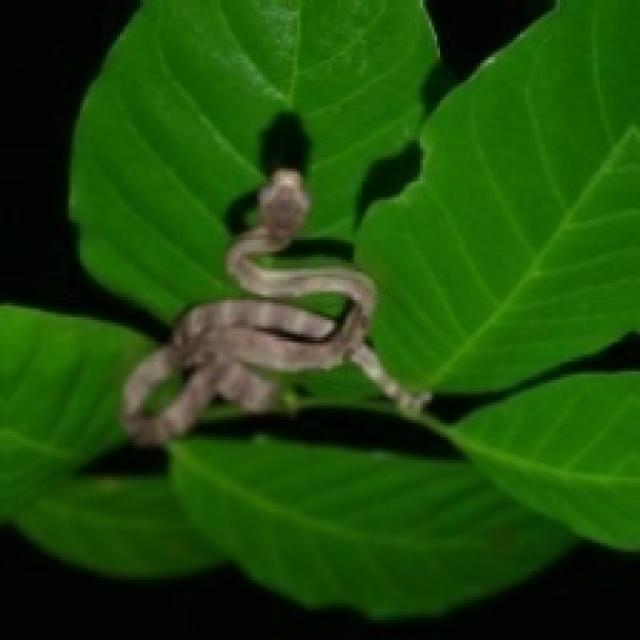philippine blunt-headed catsnake: (120, 169, 429, 446)
